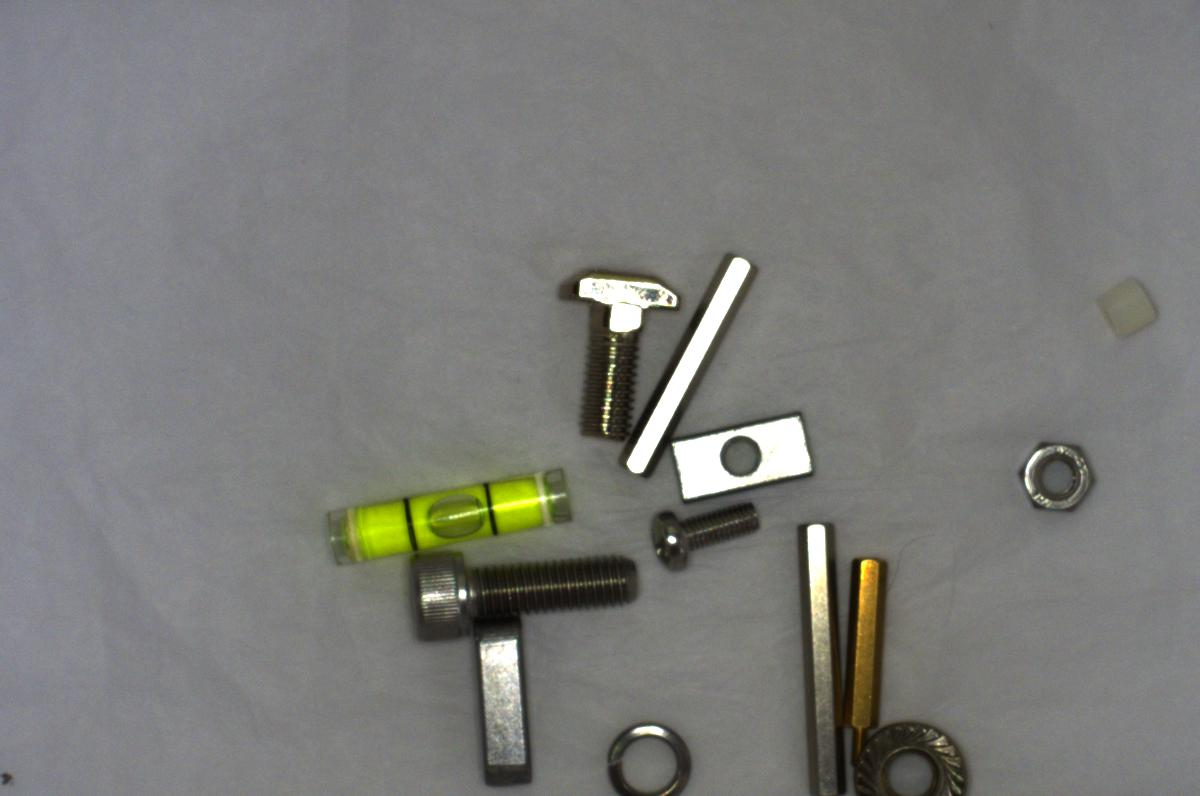Double hexagonal column: (606, 236, 760, 485)
Flange nut: (855, 713, 991, 795)
Hexagon nut: (1007, 431, 1106, 518)
Hexagon pillar: (829, 545, 900, 731)
Hexagon screw: (408, 544, 643, 644)
Horizontal bubble: (305, 458, 580, 565)
Keybar: (458, 619, 548, 786)
Plastic cushion pillar: (1084, 267, 1170, 353)
Rectangular nut: (665, 405, 824, 499)
Round head screw: (634, 494, 779, 577)
Spring washer: (597, 712, 700, 795)
T-shaped screw: (551, 258, 682, 442)
